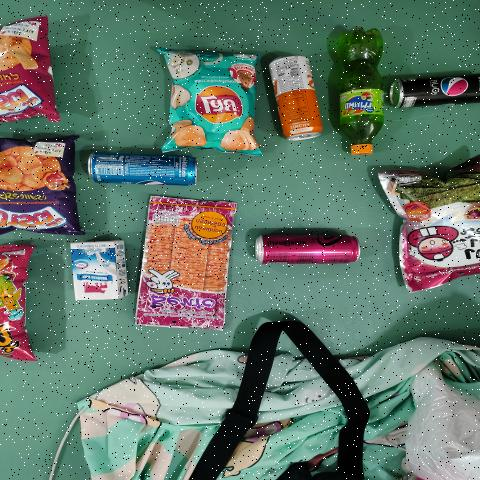bento_red: (152, 194, 225, 325)
coke_red: (254, 234, 363, 269)
fanta_green: (328, 22, 393, 164)
lay_blue: (166, 56, 253, 148)
party_purple: (0, 141, 76, 232)
pepsi_black: (385, 67, 480, 115)
pepsi_blue: (91, 157, 203, 187)
singha_yellow: (273, 43, 316, 139)
taokaenoi: (383, 174, 480, 294)
thai_denmark: (70, 240, 130, 302)
